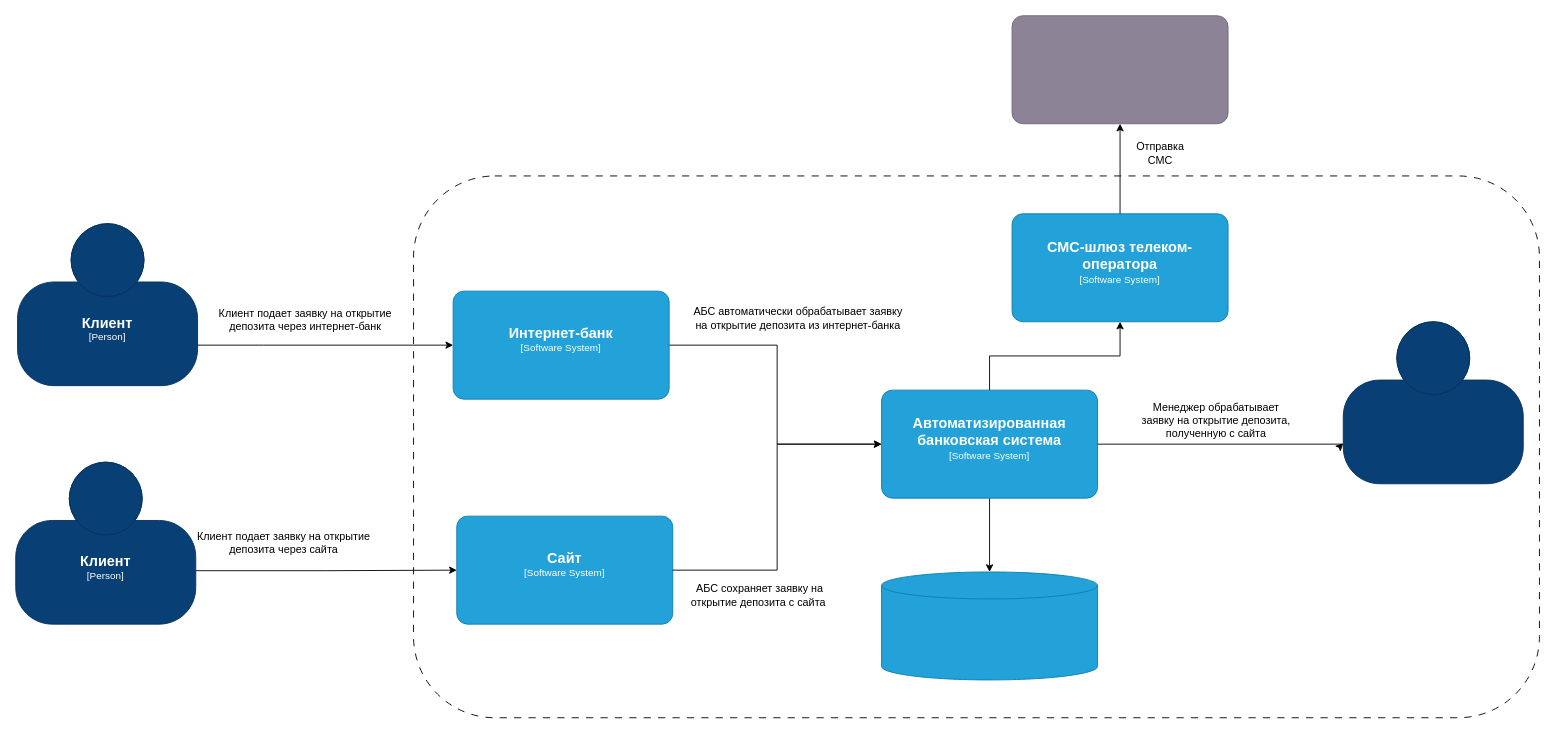
The diagram is 1555 pixels wide and 734 high, and some of its shapes have lost their labels. Here are the shapes that lost their labels. From the top down, the centre of each, then its label:
At pixel 1119 69: "Телеком оператор [External software System] Внешний оператор по отправке СМС".
At pixel 1432 402: "Менеджер фронт-офиса депозитов [Person]".
At pixel 989 625: "База данных АБС [Container: Oracle]".
